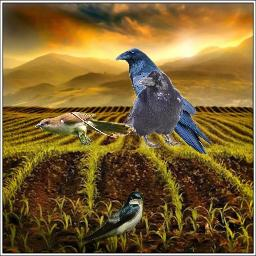Crow: (114, 47, 213, 154), (122, 69, 183, 148)
Cuckoo: (35, 112, 134, 147)
Swallow: (80, 191, 144, 247)
